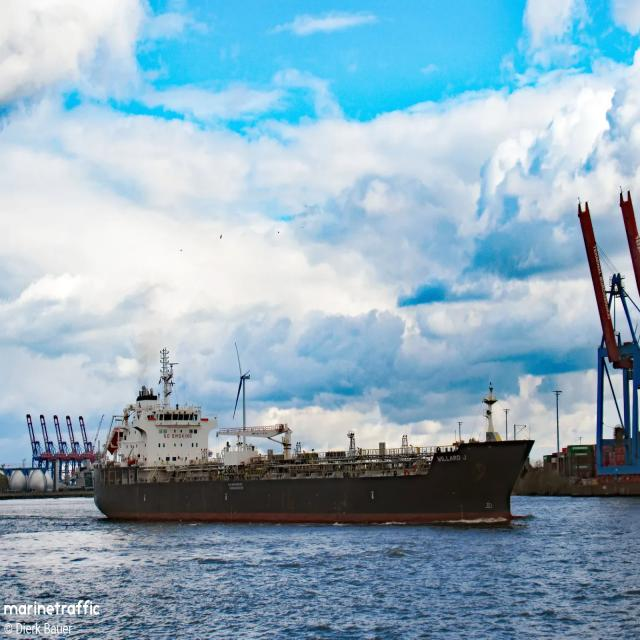Tanker: (93, 349, 534, 523)
